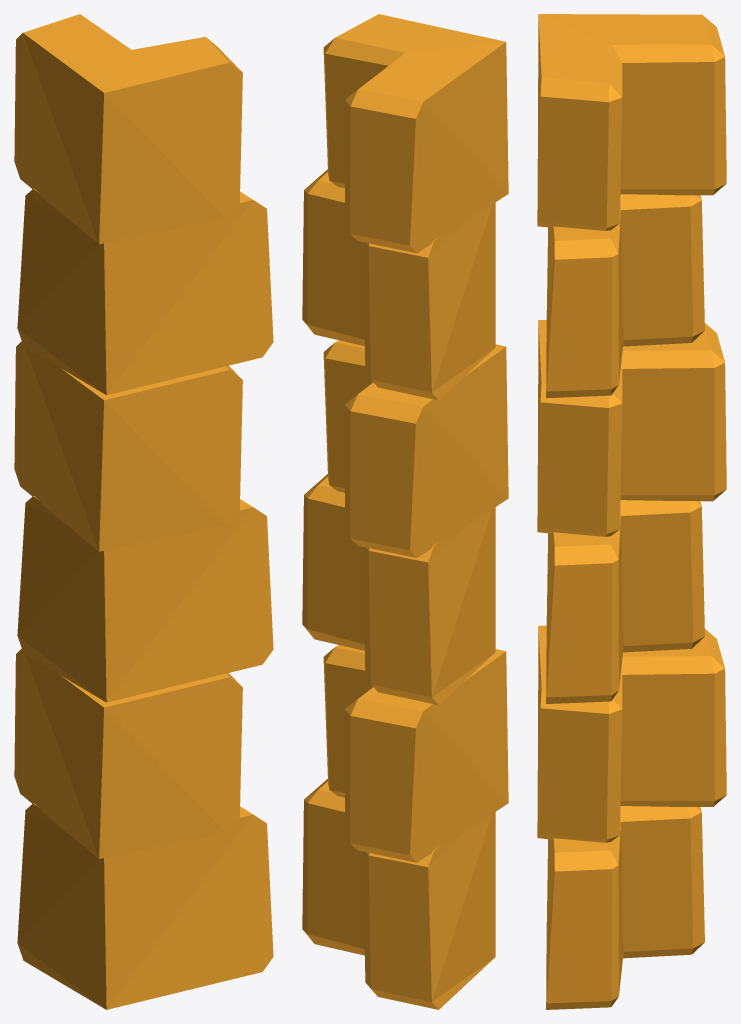
The model's file is SM_Wall_Thick_Corner_Out_Stone_3m_Int_Fantasy.fbx.
The picture shows the model from 3 angles, left to right: view 1: azimuth 30°, elevation 25°; view 2: azimuth 150°, elevation 25°; view 3: azimuth 270°, elevation 25°; orthographic projection.
Parts seen in each view (by area): view 1: SM_Wall_Thick_Corner_Out_Stone_3m_Int_Fantasy; view 2: SM_Wall_Thick_Corner_Out_Stone_3m_Int_Fantasy; view 3: SM_Wall_Thick_Corner_Out_Stone_3m_Int_Fantasy.
Part boxes in pixels (bbox=[...]): SM_Wall_Thick_Corner_Out_Stone_3m_Int_Fantasy: bbox=[14, 14, 273, 1009]; SM_Wall_Thick_Corner_Out_Stone_3m_Int_Fantasy: bbox=[302, 14, 508, 1009]; SM_Wall_Thick_Corner_Out_Stone_3m_Int_Fantasy: bbox=[537, 14, 726, 1009].
Size of the model in its own units: 0.6171 by 3.02 by 0.5659.
